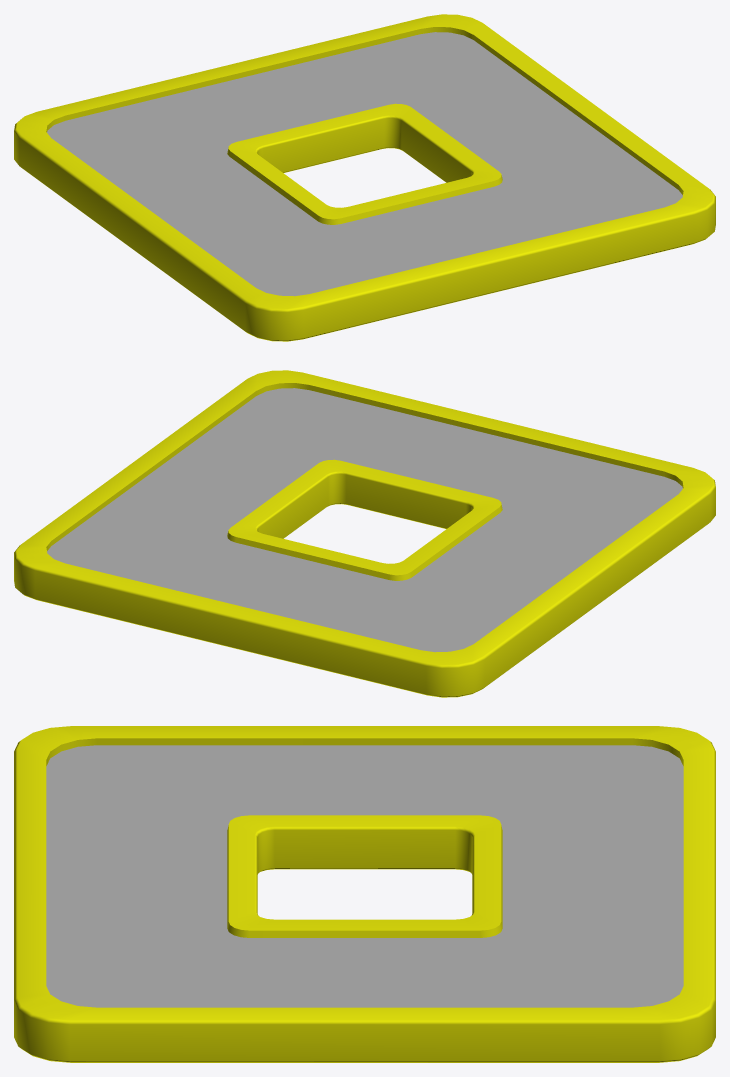
Rendered from Roof3B.fbx.
3 renders of one model, top to bottom at view 1: azimuth 30°, elevation 25°; view 2: azimuth 150°, elevation 25°; view 3: azimuth 270°, elevation 25°, orthographic. The views are drawn at different scales.
Parts seen in each view (by area): view 1: Roof3B; view 2: Roof3B; view 3: Roof3B.
Part boxes in pixels (x1=…): Roof3B: x1=14, y1=14, x2=715, y2=341; Roof3B: x1=14, y1=370, x2=715, y2=697; Roof3B: x1=14, y1=726, x2=715, y2=1062.
Bounding box in the file's own units: 521 × 35.22 × 521.
